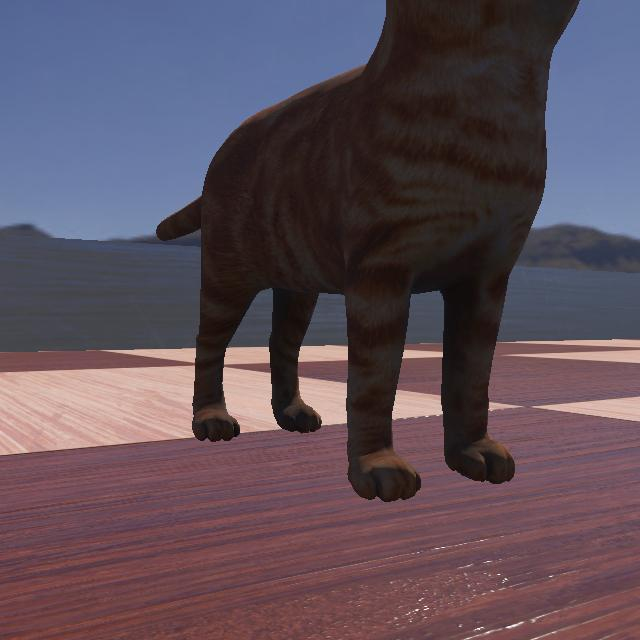cat: (1, 0, 640, 544)
